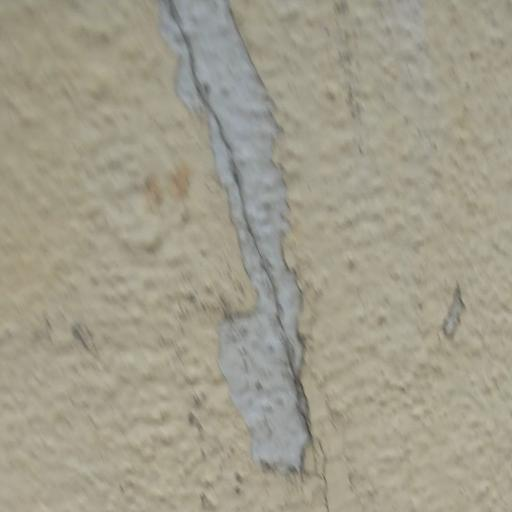peeling: (129, 0, 339, 482)
